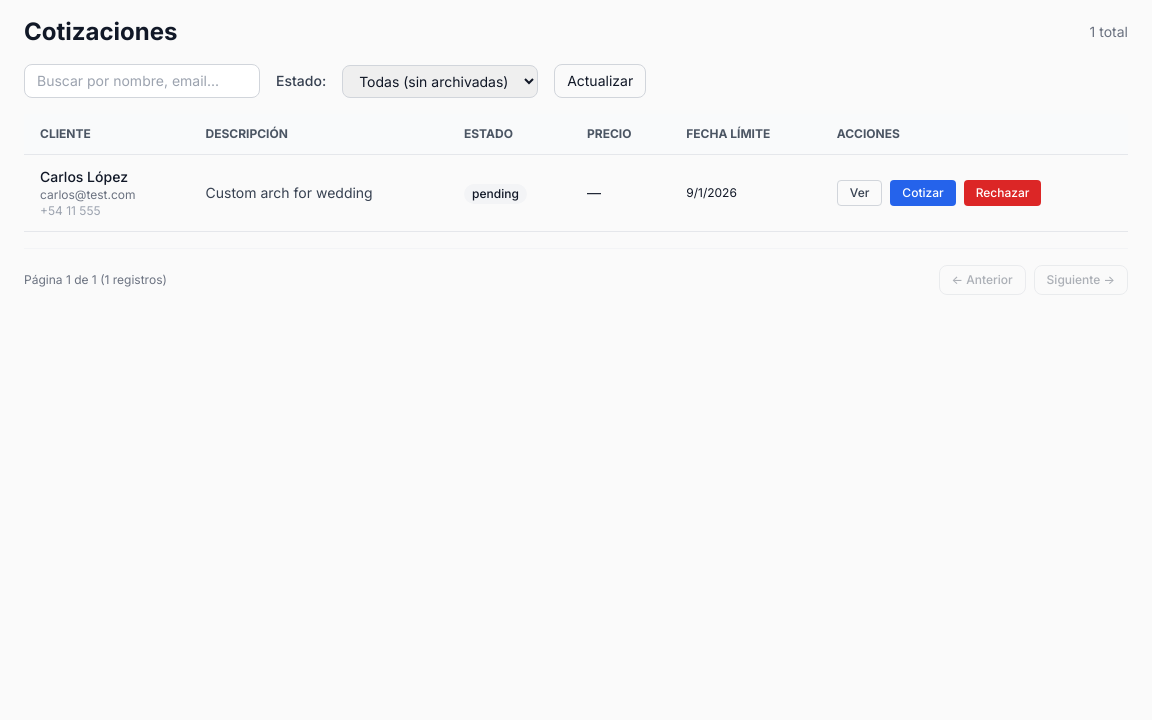
Test: QuotesPage › opens present modal on button click
The width and height of the screenshot is (1152, 720).
Click the button "Cotizar" at x=923, y=193, box [890,180,956,206]
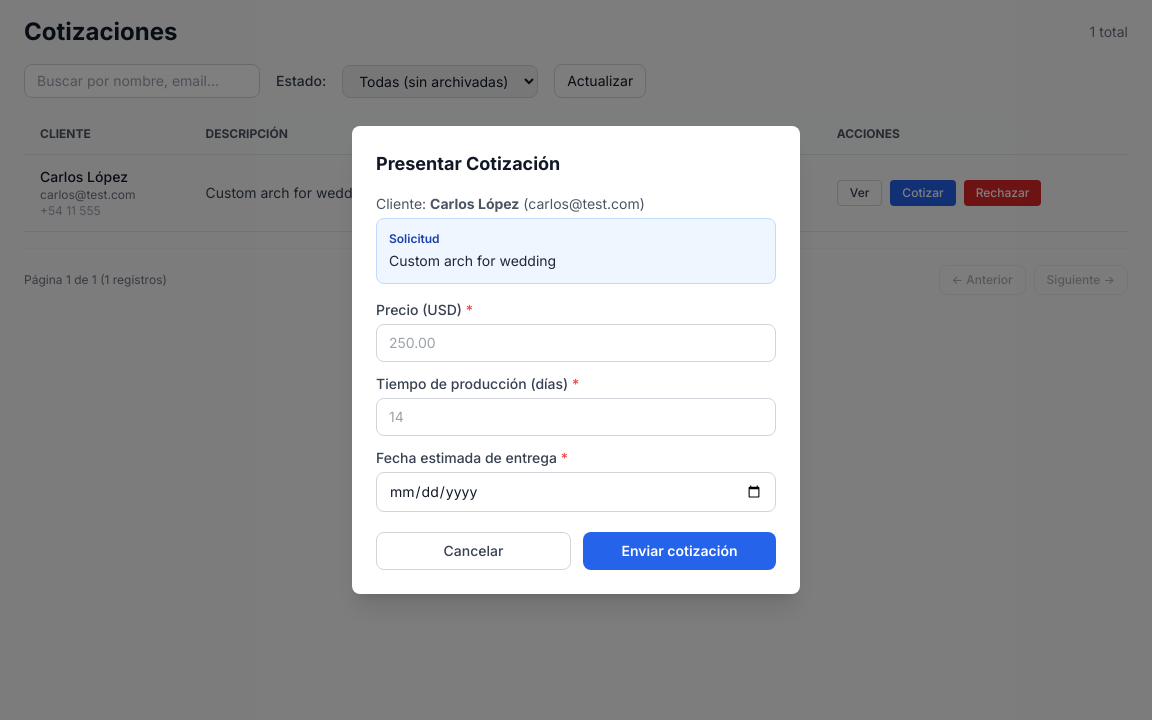
Result: the dialog is shown
Result: the number field labelled "Precio (USD) *" is shown at [376,324,776,362]
Result: the number field labelled "Tiempo de producción (días) *" is shown at [376,398,776,436]
